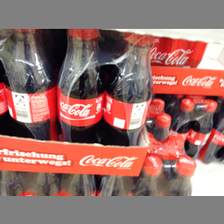soda: (3, 30, 57, 140), (104, 31, 154, 145), (58, 28, 106, 142)
